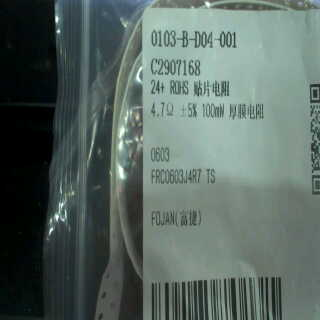4.7R: (145, 98, 177, 121)
